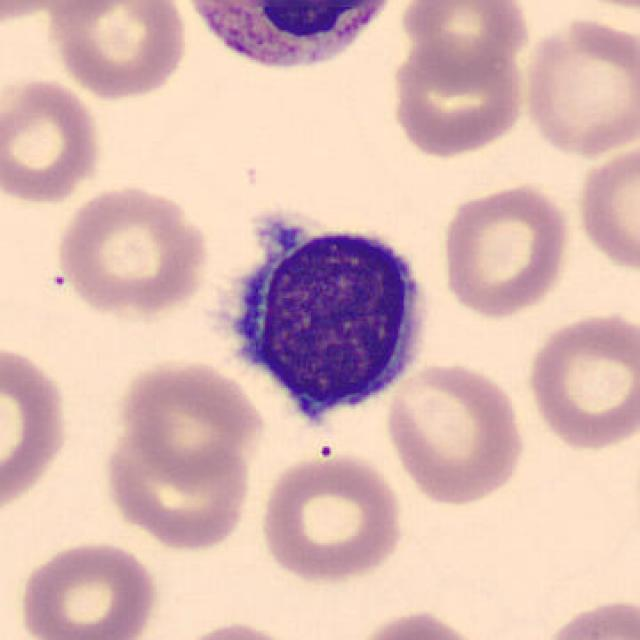Lymphocyte: (204, 194, 441, 442)
Neutrophil: (182, 0, 408, 88)
RBC: (52, 180, 214, 319), (380, 358, 530, 508), (98, 423, 260, 554), (254, 450, 409, 586), (436, 180, 574, 321), (114, 356, 266, 483), (386, 36, 530, 160), (518, 14, 638, 161), (523, 307, 638, 453), (14, 536, 162, 640), (44, 0, 190, 100), (0, 74, 105, 208), (0, 337, 73, 518), (396, 0, 534, 85), (572, 139, 640, 275), (347, 606, 489, 640), (539, 594, 638, 640), (163, 619, 310, 640), (0, 0, 105, 28), (560, 0, 640, 16)
